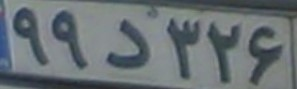character: (103, 13, 156, 76), (204, 14, 245, 87), (245, 15, 286, 88), (164, 9, 204, 83), (51, 5, 91, 74), (9, 5, 51, 69)
